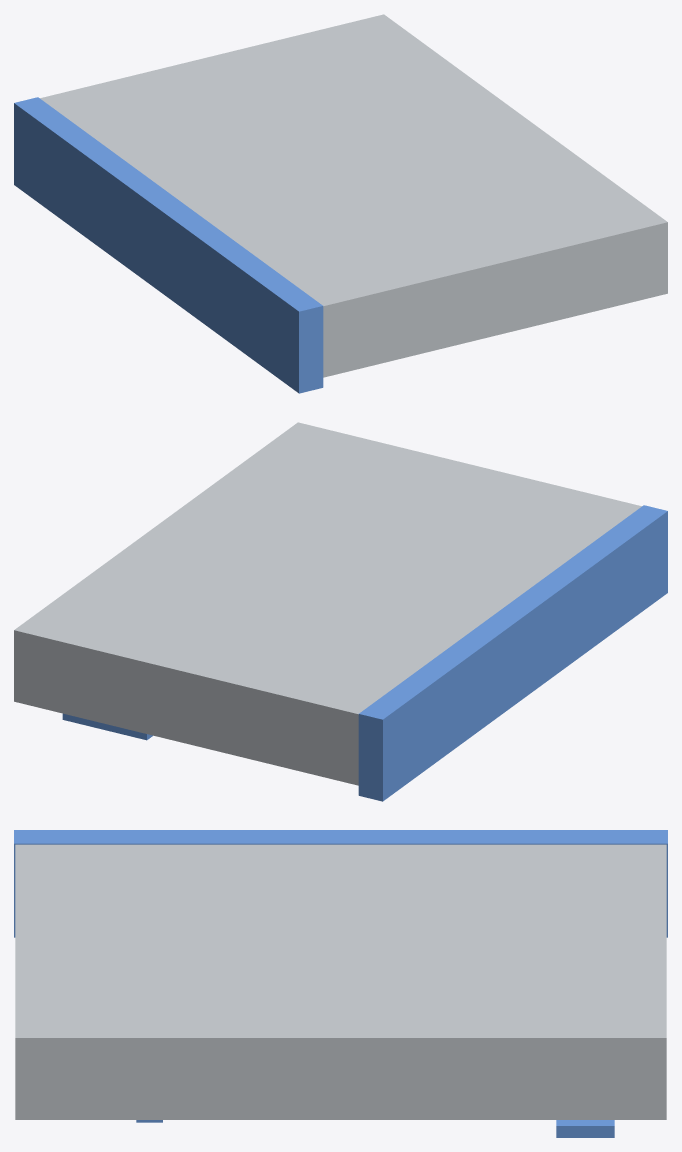
Rendered from wingmate.glb.
3 renders of one model, top to bottom at view 1: azimuth 30°, elevation 25°; view 2: azimuth 150°, elevation 25°; view 3: azimuth 270°, elevation 25°, orthographic. The views are drawn at different scales.
Visible parts, largest first — view 1: Wingmate carton, Wingmate spine; view 2: Wingmate carton, Wingmate spine, Wingmate edition chip; view 3: Wingmate carton, Wingmate spine, Wingmate edition chip.
Boxes of the visible parts, left/top/right/bottom form: Wingmate carton: left=40, top=14, right=667, bottom=377; Wingmate spine: left=14, top=97, right=323, bottom=393; Wingmate carton: left=14, top=422, right=641, bottom=785; Wingmate spine: left=358, top=505, right=667, bottom=801; Wingmate edition chip: left=62, top=713, right=152, bottom=740; Wingmate carton: left=15, top=844, right=666, bottom=1119; Wingmate spine: left=14, top=830, right=667, bottom=937; Wingmate edition chip: left=556, top=1120, right=614, bottom=1137.
Size of the model in its own units: 1.84 by 0.4825 by 2.46.
